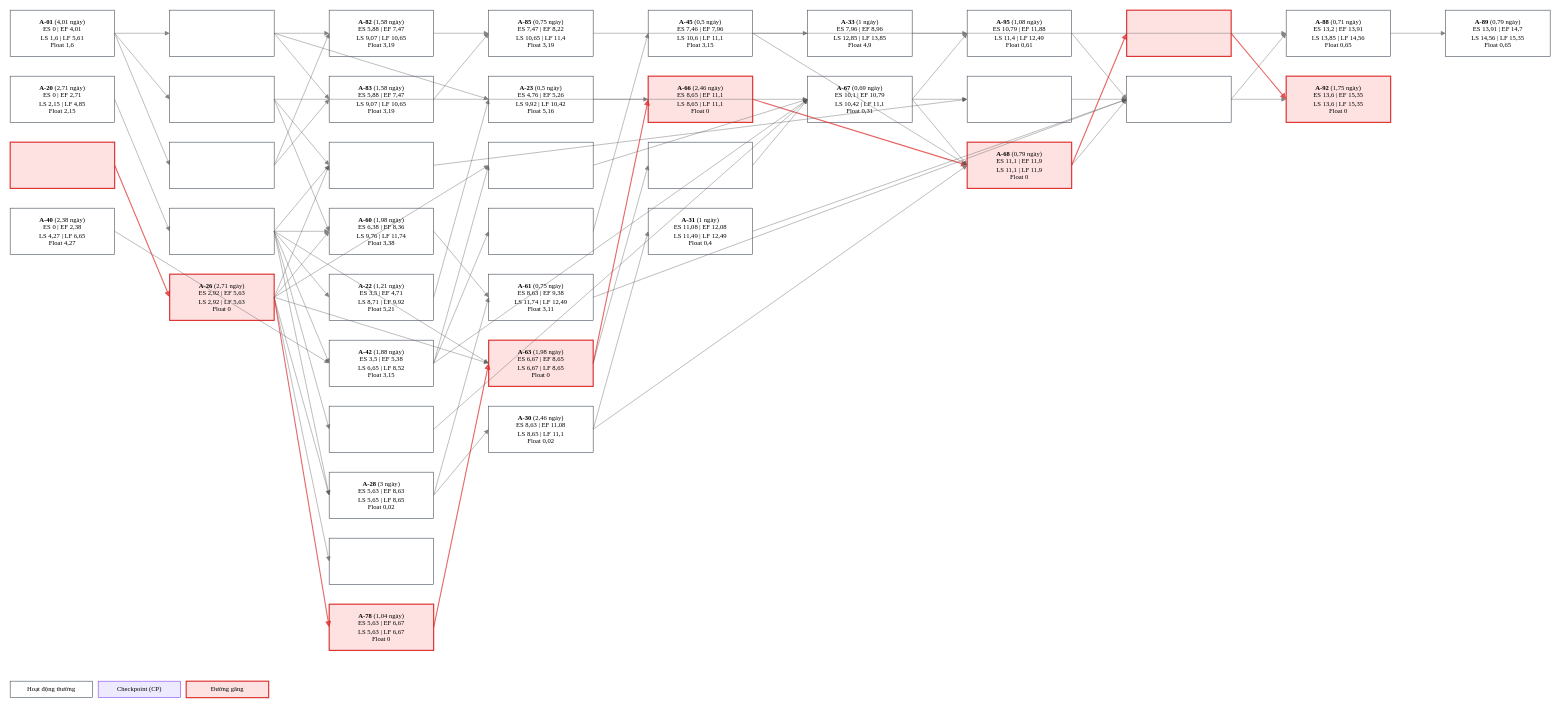
Some shapes in this 1560 by 707 pixel diagram are drawn without their labels. Here are the shapes that lost their labels. From the top down, the centre of each, then its label:
At point (221, 33): "A-09 (0,75 ngày) ES 4,01 | EF 4,76 LS 8,32 | LF 9,07 Float 4,31".
At point (1178, 33): "A-90 (1,71 ngày) ES 11,9 | EF 13,6 LS 11,9 | LF 13,6 Float 0".
At point (221, 99): "A-13 (2,38 ngày) ES 4,01 | EF 6,38 LS 5,61 | LF 7,99 Float 1,6".
At point (1019, 99): "A-49 (1 ngày) ES 10,79 | EF 11,79 LS 11,49 | LF 12,49 Float 0,7".
At point (1178, 99): "A-87 (1,12 ngày) ES 12,08 | EF 13,2 LS 12,49 | LF 13,6 Float 0,4".
At point (62, 165): "A-24 (2,92 ngày) ES 0 | EF 2,92 LS 0 | LF 2,92 Float 0".
At point (221, 165): "A-80 (1,88 ngày) ES 4,01 | EF 5,88 LS 7,2 | LF 9,07 Float 3,19".
At point (381, 165): "A-48 (3,5 ngày) ES 6,38 | EF 9,88 LS 7,99 | LF 11,49 Float 1,6".
At point (540, 165): "A-47 (1,13 ngày) ES 5,63 | EF 6,75 LS 9,29 | LF 10,42 Float 3,67".
At point (700, 165): "A-65 (1,46 ngày) ES 8,65 | EF 10,1 LS 8,96 | LF 10,42 Float 0,31".
At point (221, 231): "A-21 (0,79 ngày) ES 2,71 | EF 3,5 LS 4,85 | LF 5,65 Float 2,15".
At point (540, 231): "A-43 (2,08 ngày) ES 5,38 | EF 7,46 LS 8,52 | LF 10,6 Float 3,15".
At point (381, 429): "A-79 (1,04 ngày) ES 3,5 | EF 4,54 LS 9,38 | LF 10,42 Float 5,88".
At point (381, 561): "A-27 (0,5 ngày) ES 5,63 | EF 6,13 LS 14,85 | LF 15,35 Float 9,23".
